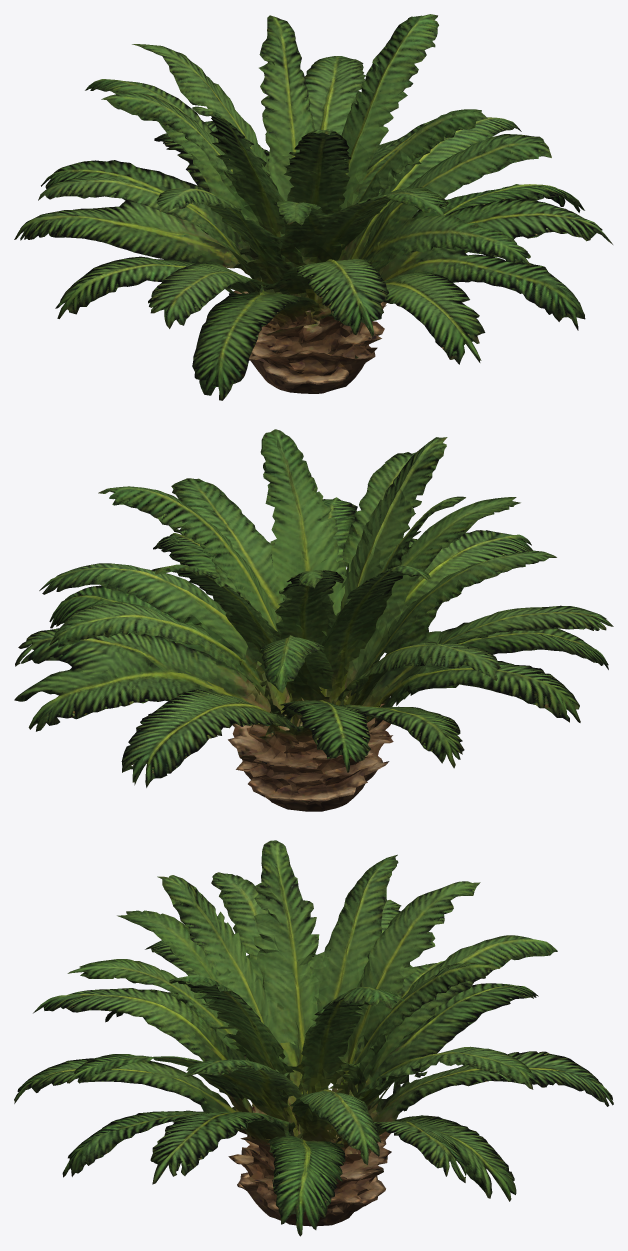
3 renders of one model, top to bottom at view 1: azimuth 30°, elevation 25°; view 2: azimuth 150°, elevation 25°; view 3: azimuth 270°, elevation 25°, orthographic. The views are drawn at different scales.
Parts seen in each view (by area): view 1: world; view 2: world; view 3: world.
Boxes of the visible parts, x1,y1,x2,y2 form: world: (14, 14, 612, 400); world: (14, 429, 613, 811); world: (14, 840, 613, 1236).
Size of the model in its own units: 0.9871 by 0.5602 by 0.9994.
Materials: 1 (1 with a texture image).
